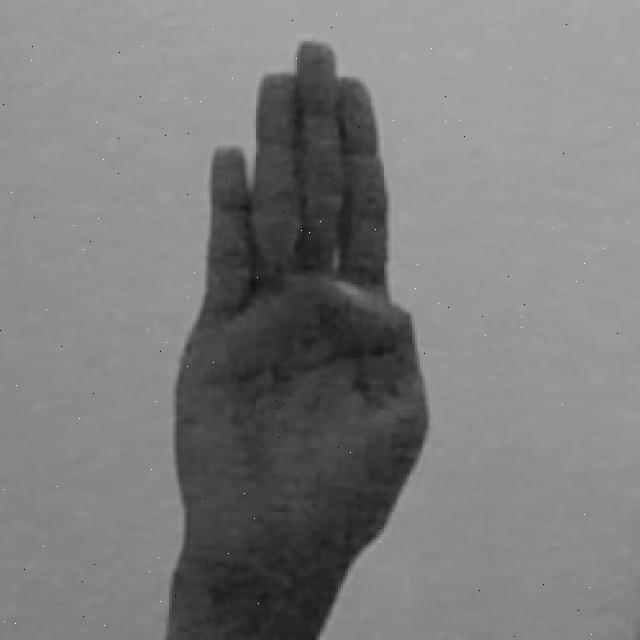B: (170, 35, 432, 640)
